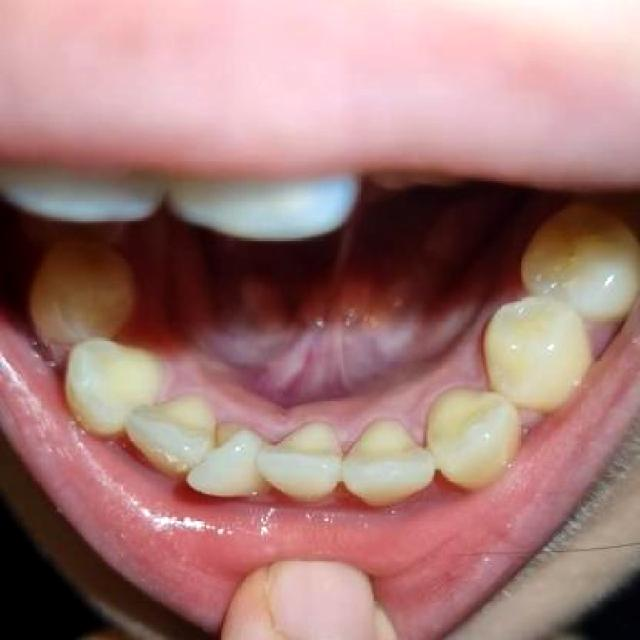Plaque: (554, 234, 595, 264)
